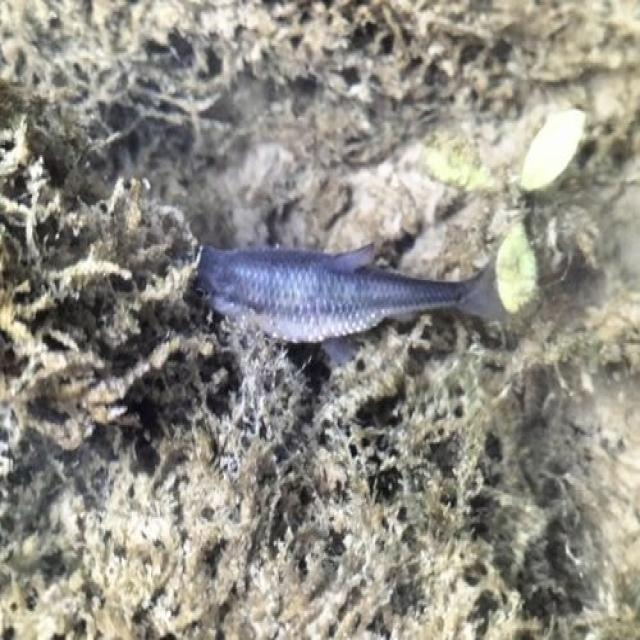Cakil Baligi: (188, 228, 530, 359)
